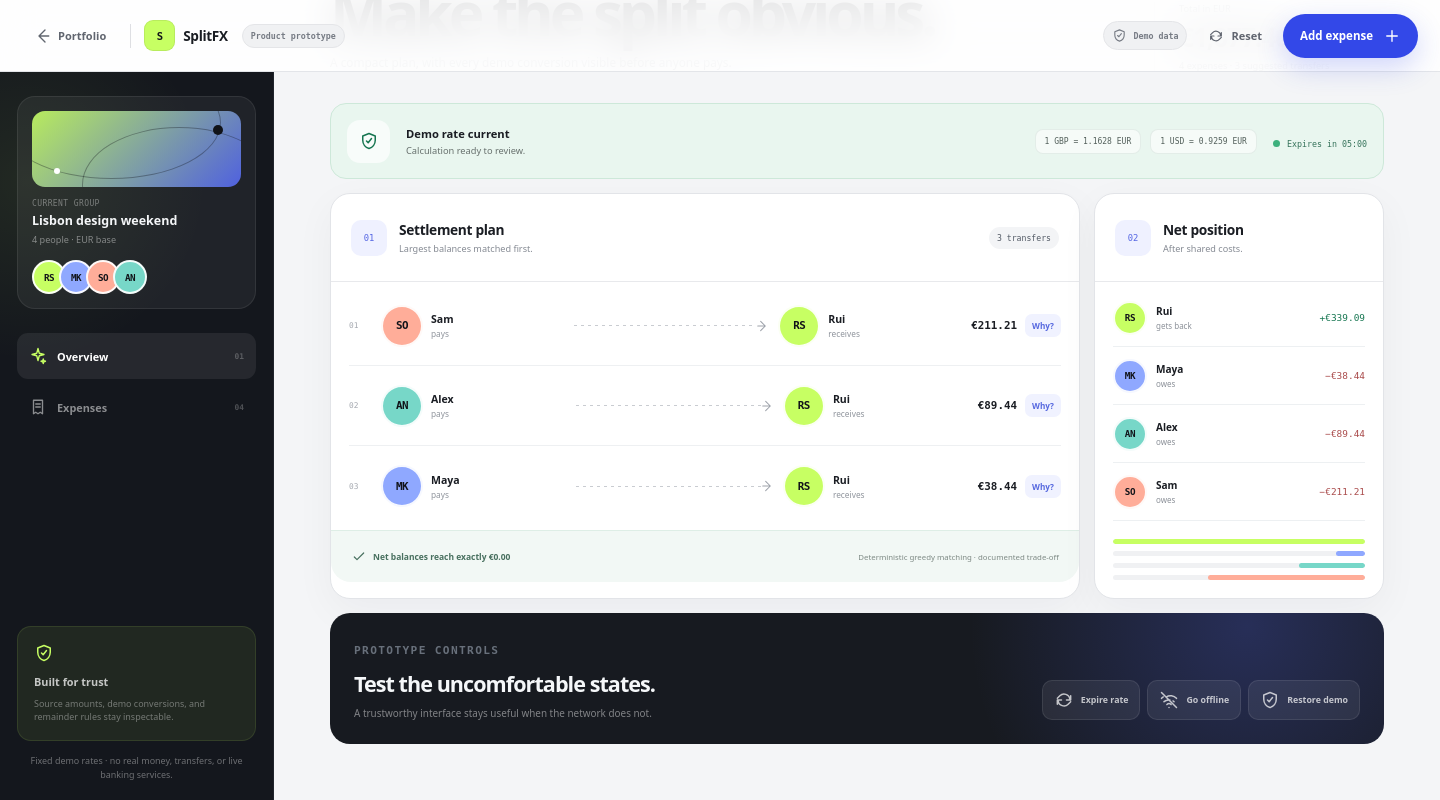
Scenario: Rui Sá frontend portfolio › keeps the last calculation understandable through quote failure states
(page scrolled)
Click the button "Expire rate" at (1092, 700), box left=1042, top=680, right=1141, bottom=720
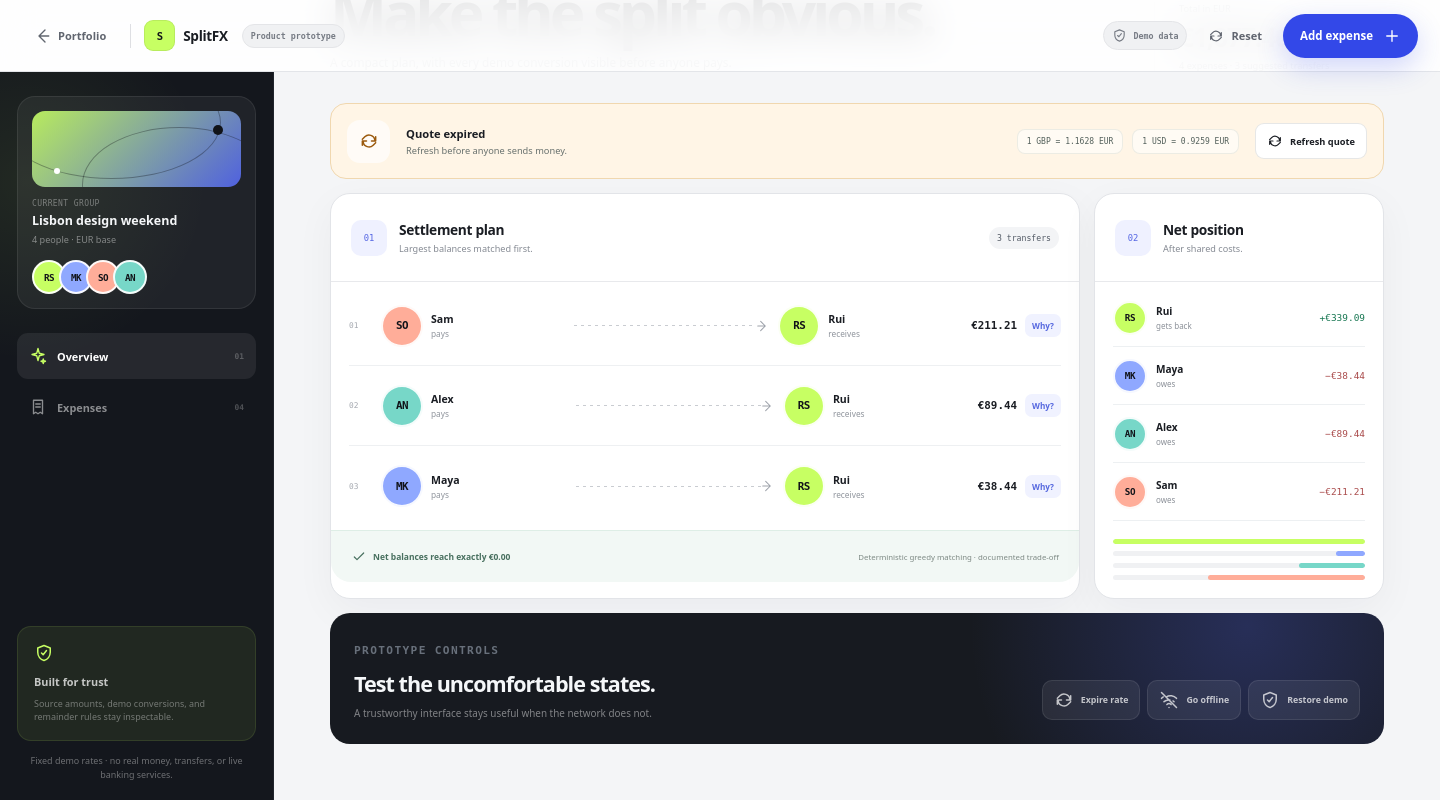
Expected: the heading "Settlement plan" is shown, left=399, top=220, right=504, bottom=239
Expected: the text "Quote expired" is shown, left=406, top=126, right=486, bottom=140
Click the button "Go offline" at (1195, 700), box left=1148, top=680, right=1242, bottom=720
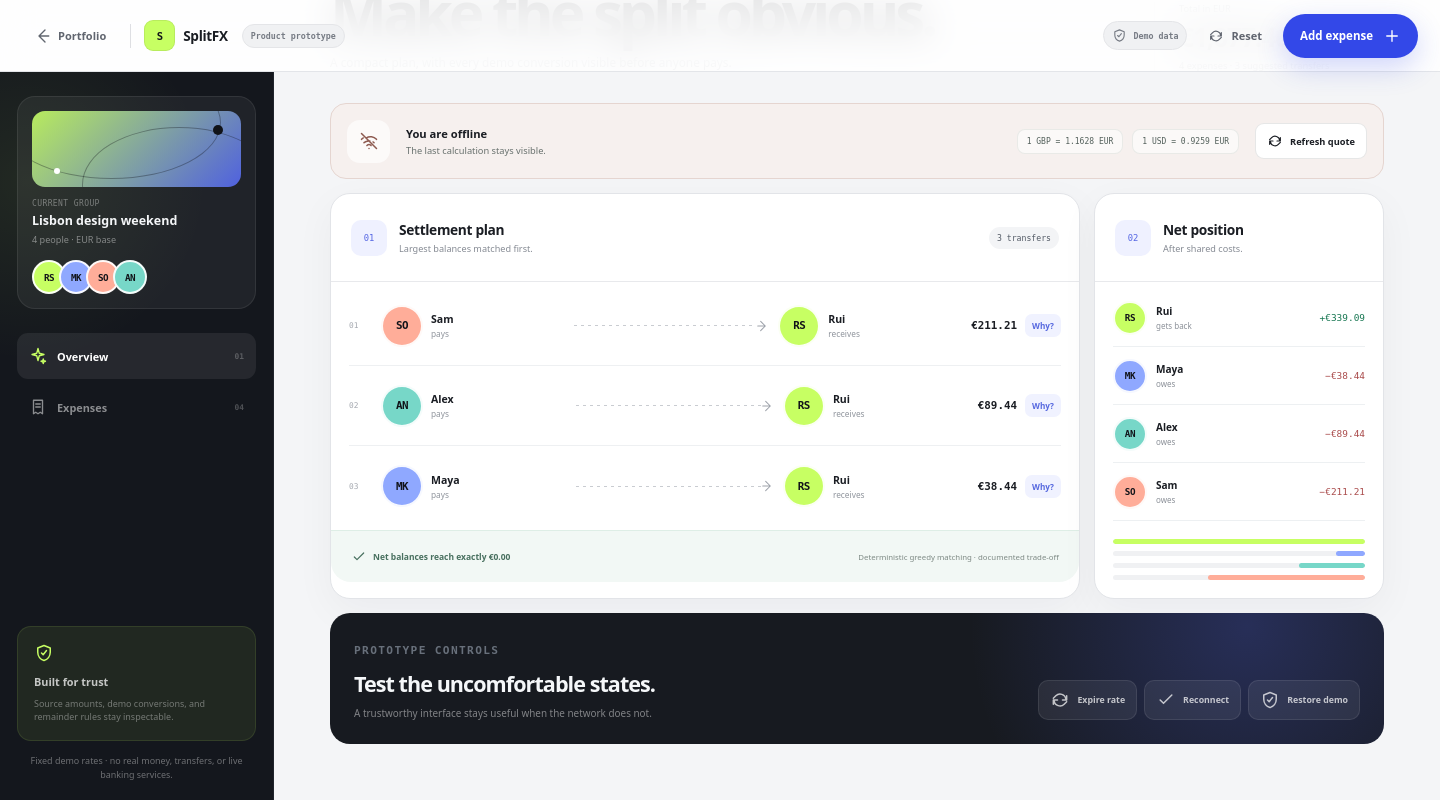
Expected: the text "You are offline" is shown, left=406, top=126, right=487, bottom=140
Click the button "Reconnect" at (1193, 700), box left=1144, top=680, right=1241, bottom=720
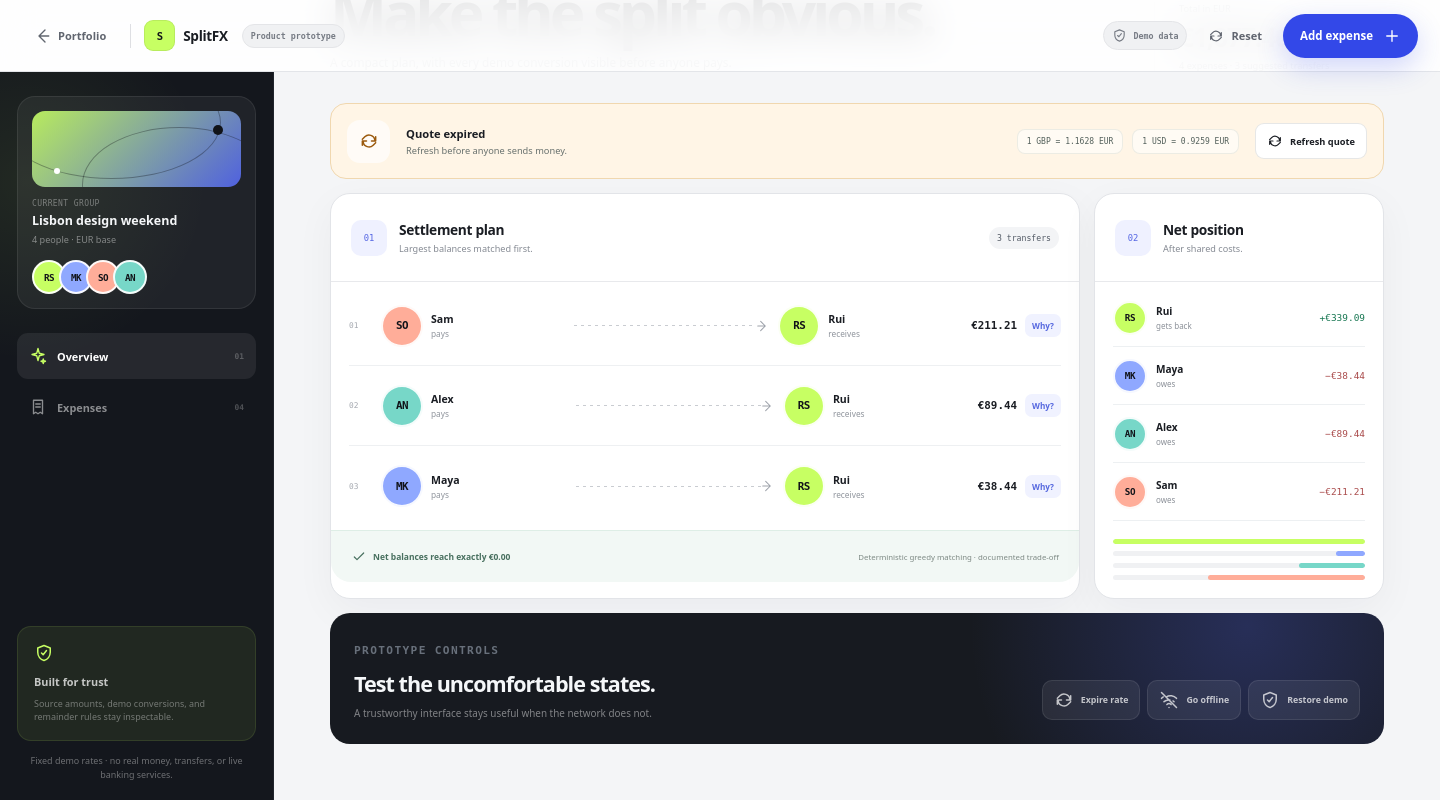
Expected: the text "Quote expired" is shown, left=406, top=126, right=486, bottom=140
Click the button "Refresh quote" at (1311, 141), box left=1255, top=123, right=1367, bottom=159
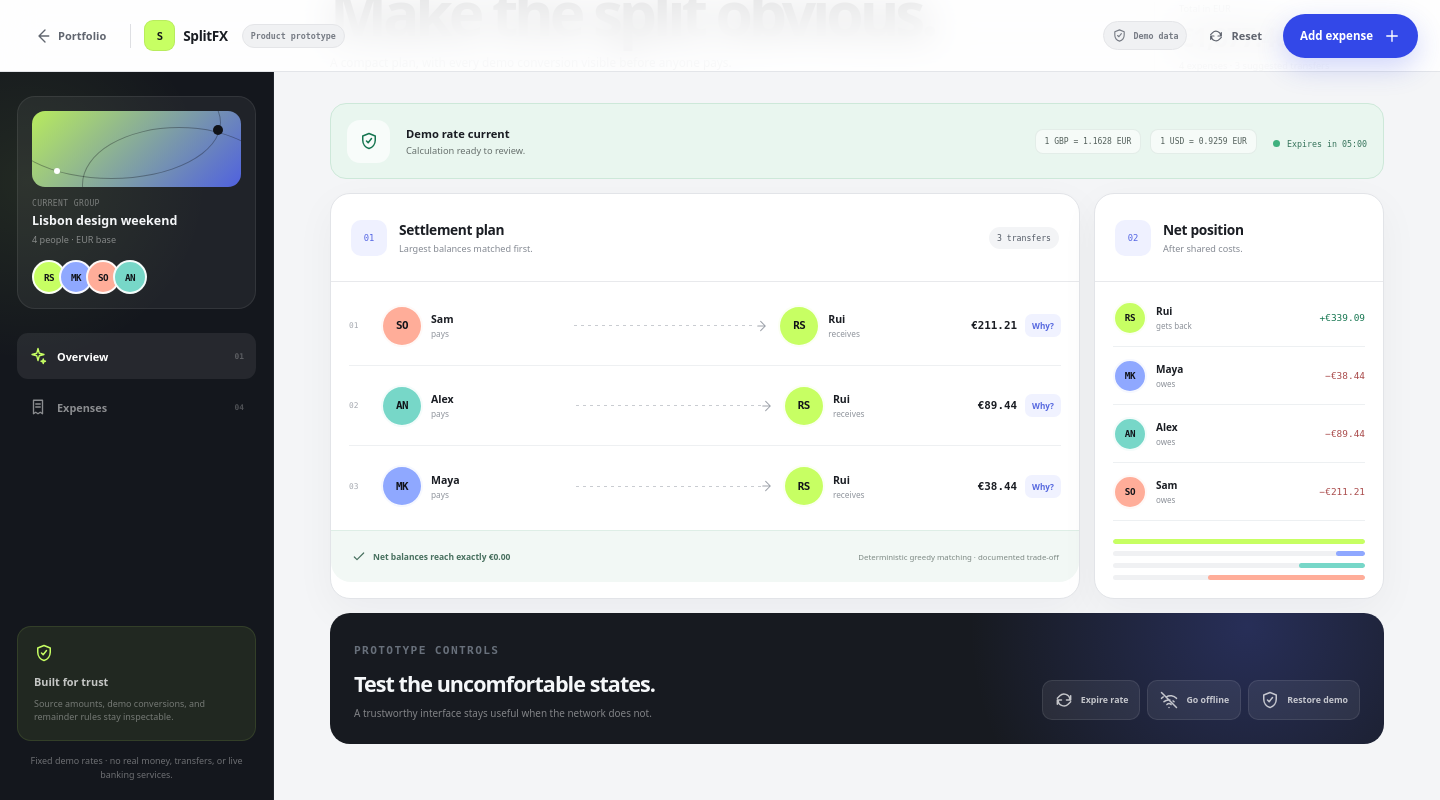
Expected: the text "Demo rate current" is shown, left=406, top=126, right=510, bottom=140
